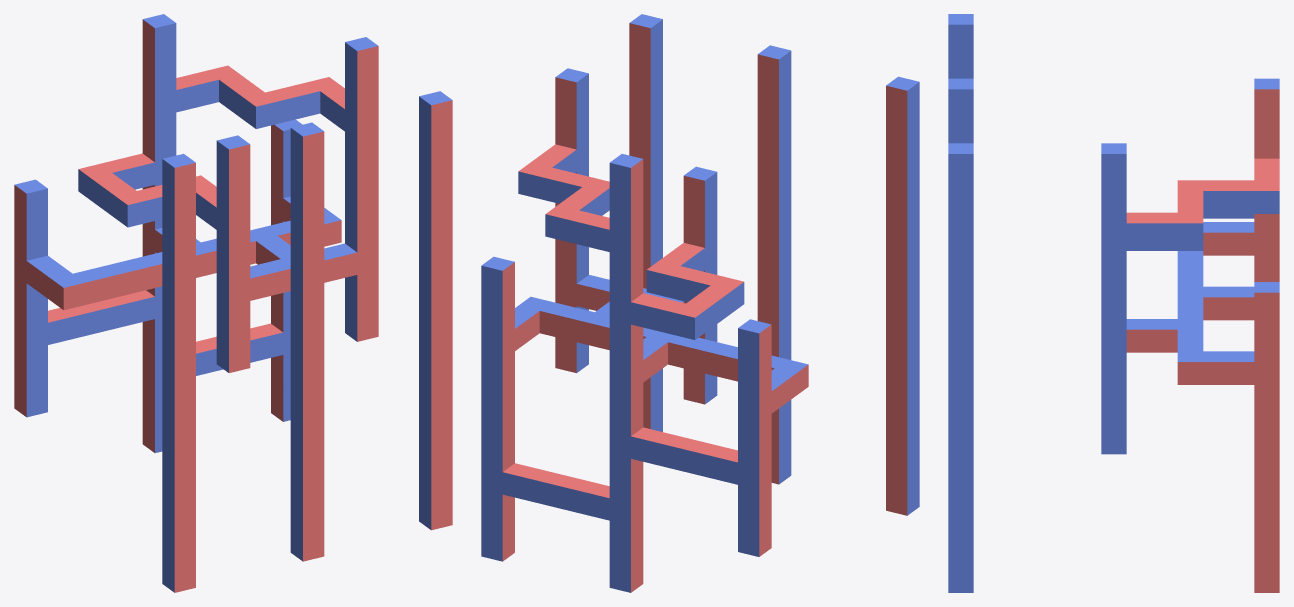
The model's file is bv_8_blockgraph.dae.
3 renders of one model, left to right at view 1: azimuth 30°, elevation 25°; view 2: azimuth 150°, elevation 25°; view 3: azimuth 270°, elevation 25°, orthographic. The views are drawn at different scales.
Parts seen in each view (by area): view 1: ZXO (×49), XZO (×12), OZX (×6), OXZ (×3), ZOX (×3), XOZ; view 2: ZXO (×32), XZO (×23), OZX (×8), OXZ (×3), XOZ (×3), ZOX; view 3: ZXO (×12), ZXZ (×13), XOZ (×8), XZO (×6), ZOX (×4), XZZ (×4), XZX (×3), OXZ (×3), ZZX (×2), OZX (×2), ZXX, XXZ.
Boxes of the visible parts, box(x1,y1,x2,y2) form: ZXO (×49): box(162, 65, 452, 570); XZO (×12): box(14, 42, 283, 430); OZX (×6): box(48, 80, 320, 362); OXZ (×3): box(85, 252, 357, 304); ZOX (×3): box(90, 80, 344, 217); XOZ: box(26, 261, 51, 300); ZXO (×32): box(555, 42, 919, 493); XZO (×23): box(481, 181, 771, 570); OZX (×8): box(502, 177, 737, 520); OXZ (×3): box(539, 284, 710, 374); XOZ (×3): box(515, 311, 796, 413); ZOX: box(707, 291, 731, 330); ZXO (×12): box(948, 48, 1126, 569); ZXZ (×13): box(948, 24, 1126, 592); XOZ (×8): box(1126, 222, 1254, 384); XZO (×6): box(1254, 112, 1279, 569); ZOX (×4): box(1126, 180, 1254, 246); XZZ (×4): box(1254, 89, 1279, 592); XZX (×3): box(1254, 228, 1279, 523); OXZ (×3): box(1177, 265, 1203, 351); ZZX (×2): box(1177, 191, 1279, 246); OZX (×2): box(1177, 158, 1279, 212); ZXX: box(1101, 223, 1126, 246); XXZ: box(1177, 362, 1203, 384).
Size of the model in its own units: 13 by 13 by 19.
